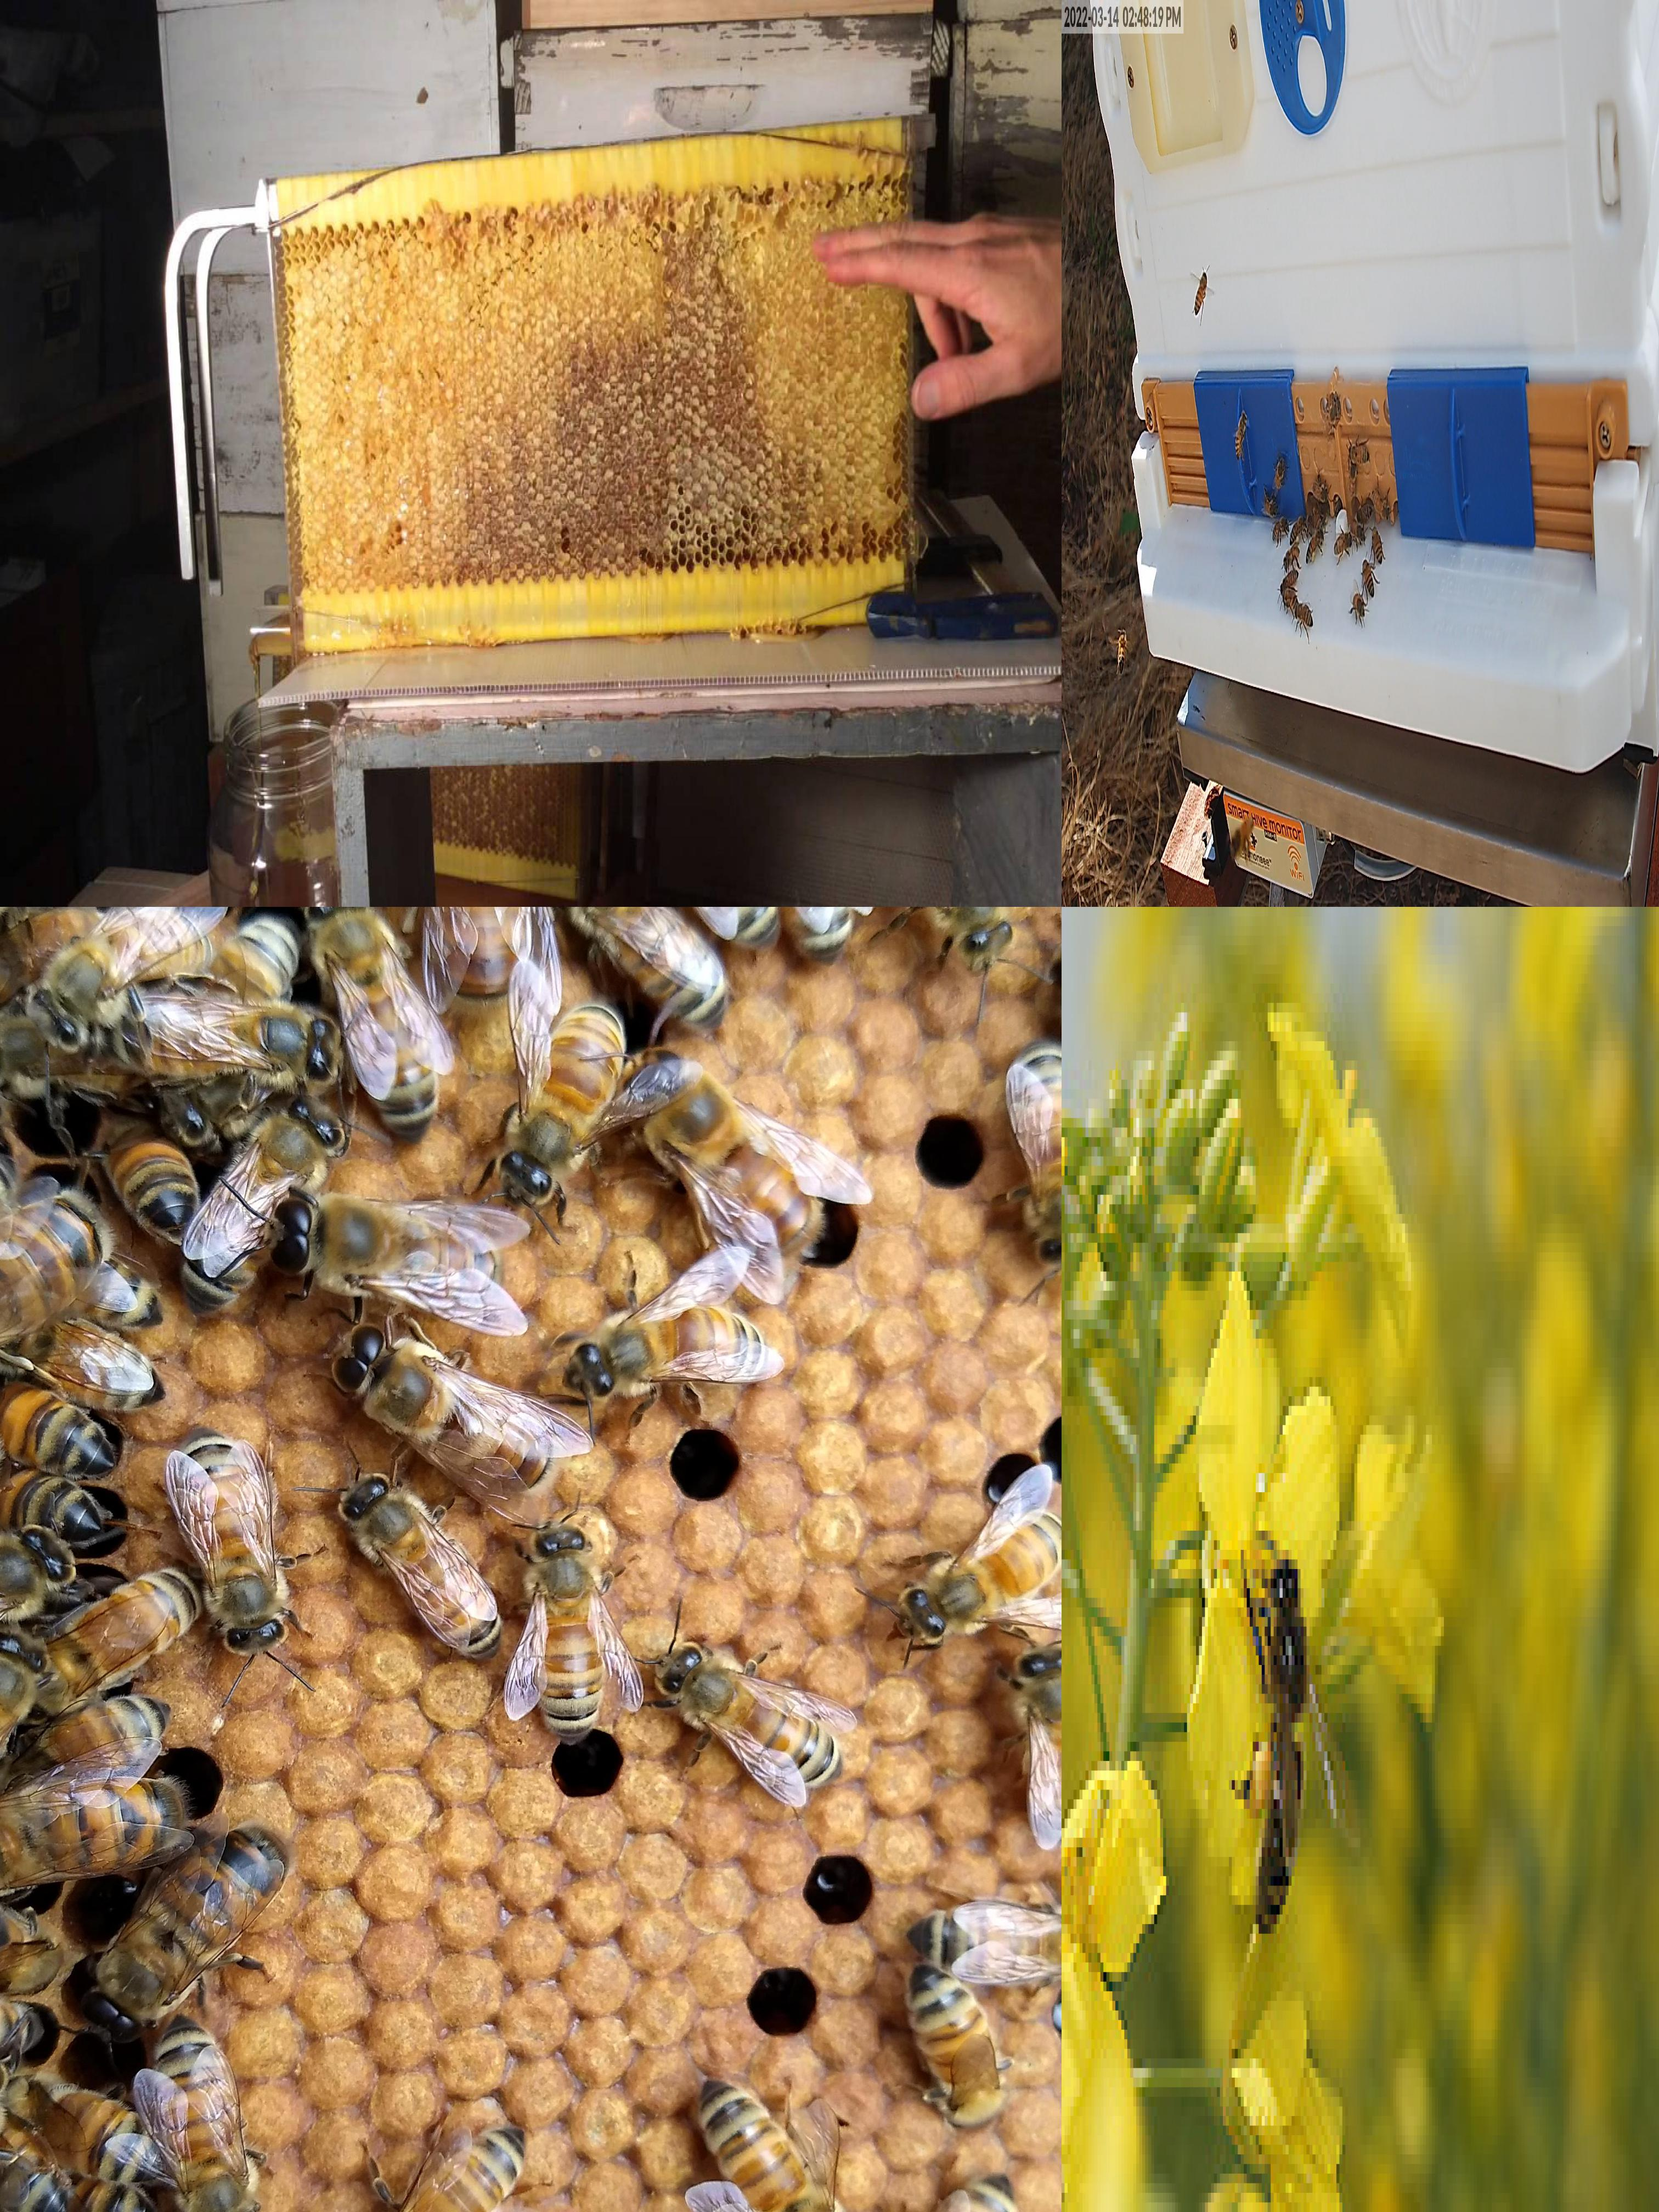bee: (186, 1101, 335, 1312), (307, 907, 441, 1139), (336, 1479, 504, 1655), (169, 1432, 288, 1655), (664, 1649, 842, 1785), (24, 1571, 206, 1703), (504, 1003, 624, 1200), (35, 913, 213, 1042), (699, 2078, 857, 2212), (153, 2017, 258, 2212), (552, 907, 725, 1021), (903, 1512, 1061, 1634), (526, 1529, 606, 1742), (572, 1308, 767, 1393), (119, 1007, 338, 1082), (908, 1966, 1007, 2130), (0, 1312, 166, 1409), (186, 914, 303, 1052), (0, 1698, 176, 1787), (12, 2080, 162, 2181), (350, 2127, 525, 2212), (911, 1902, 1061, 1982), (108, 1108, 199, 1235), (1011, 1045, 1061, 1264), (174, 1042, 296, 1130), (0, 1385, 115, 1477), (0, 907, 103, 1008), (45, 1249, 162, 1327), (0, 1534, 66, 1656), (0, 1632, 42, 1824), (1019, 1648, 1061, 1839), (0, 1470, 101, 1545), (732, 907, 850, 963), (868, 2170, 1016, 2212), (884, 907, 1012, 954), (0, 2177, 155, 2212), (1230, 815, 1253, 860), (1195, 272, 1208, 315), (1373, 489, 1391, 519), (1236, 411, 1246, 458), (1283, 589, 1298, 618), (1349, 442, 1370, 463), (1363, 557, 1373, 599), (1281, 570, 1298, 594), (1297, 603, 1314, 627), (1326, 399, 1338, 430), (1284, 545, 1300, 570), (1335, 533, 1352, 554), (1272, 517, 1288, 540), (1312, 482, 1328, 503), (1312, 505, 1323, 535), (1373, 528, 1382, 563), (1351, 523, 1366, 542), (1119, 629, 1126, 671), (1349, 462, 1356, 498), (1263, 496, 1276, 517), (1354, 592, 1364, 617), (1276, 460, 1284, 488), (1307, 495, 1314, 529), (1358, 503, 1370, 523)
drone: (91, 1827, 289, 2041), (631, 1049, 812, 1258), (336, 1329, 551, 1491), (275, 1195, 500, 1299), (0, 1775, 186, 1890), (0, 1195, 101, 1381), (434, 907, 532, 996)
pollenbee: (1249, 1559, 1307, 1932), (1307, 531, 1323, 563), (1291, 516, 1307, 543), (1335, 495, 1342, 516)
